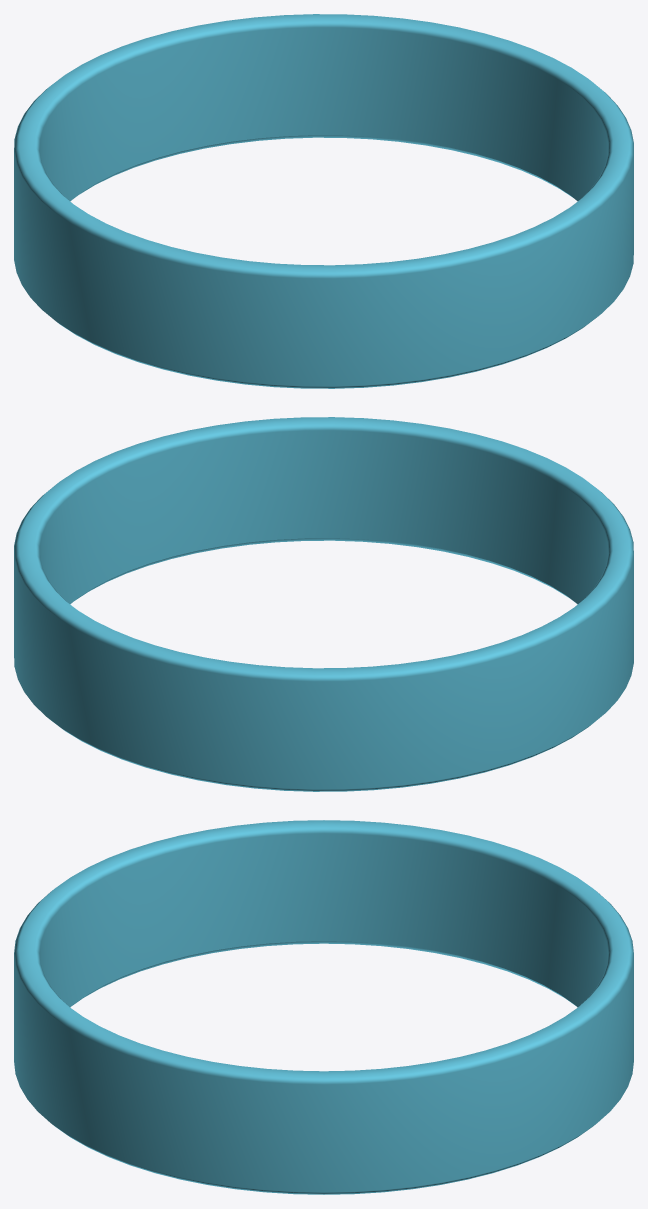
3 renders of one model, top to bottom at view 1: azimuth 30°, elevation 25°; view 2: azimuth 150°, elevation 25°; view 3: azimuth 270°, elevation 25°, orthographic.
Visible parts, largest first — view 1: seal_body; view 2: seal_body; view 3: seal_body.
Part boxes in pixels (<box>): seal_body: <box>14,14,633,388</box>; seal_body: <box>14,417,633,791</box>; seal_body: <box>14,820,633,1194</box>.
Bounding box in the file's own units: 0.0762 × 0.0159 × 0.0762.
